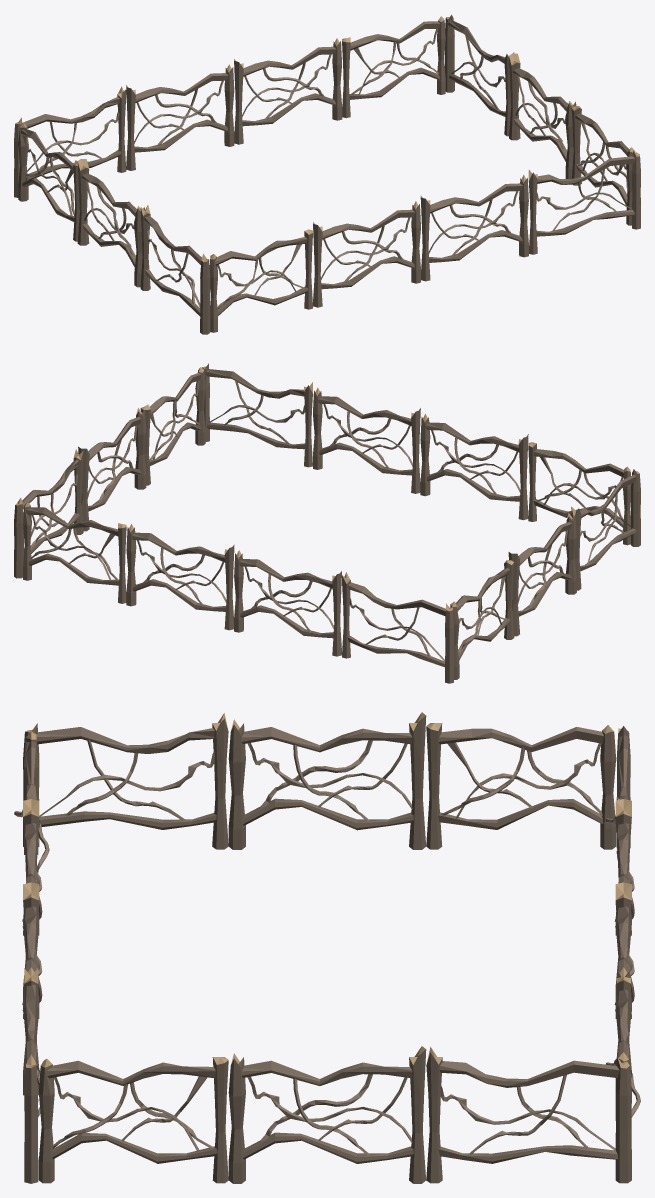
Rendered from fense_full.fbx.
3 views of the same model, one above another, from view 1: azimuth 30°, elevation 25°; view 2: azimuth 150°, elevation 25°; view 3: azimuth 270°, elevation 25° (orthographic). The views are drawn at different scales.
Parts seen in each view (by area): view 1: FENSE_CORNER_5, FENSE_CORNER_7, FENSE_CORNER_4, FENSE_CORNER_6, FENSE_LINE_4, FENSE_LINE_1, FENSE_LINE_5, FENSE_LINE_2, FENSE_LINE_3, FENSE_LINE_6; view 2: FENSE_CORNER_6, FENSE_CORNER_7, FENSE_CORNER_4, FENSE_CORNER_5, FENSE_LINE_2, FENSE_LINE_5, FENSE_LINE_1, FENSE_LINE_4, FENSE_LINE_3, FENSE_LINE_6; view 3: FENSE_CORNER_4, FENSE_CORNER_7, FENSE_CORNER_6, FENSE_LINE_3, FENSE_LINE_6, FENSE_CORNER_5, FENSE_LINE_1, FENSE_LINE_5, FENSE_LINE_4, FENSE_LINE_2.
Part boxes in pixels (left/top/right/bottom): FENSE_CORNER_5: left=140, top=205, right=312, bottom=334; FENSE_CORNER_7: left=342, top=14, right=514, bottom=136; FENSE_CORNER_4: left=528, top=106, right=640, bottom=254; FENSE_CORNER_6: left=14, top=86, right=126, bottom=241; FENSE_LINE_4: left=126, top=64, right=234, bottom=170; FENSE_LINE_1: left=420, top=174, right=528, bottom=281; FENSE_LINE_5: left=234, top=38, right=342, bottom=144; FENSE_LINE_2: left=313, top=201, right=420, bottom=307; FENSE_LINE_3: left=77, top=159, right=144, bottom=287; FENSE_LINE_6: left=509, top=53, right=576, bottom=178; FENSE_CORNER_6: left=342, top=560, right=514, bottom=683; FENSE_CORNER_7: left=14, top=449, right=126, bottom=603; FENSE_CORNER_4: left=140, top=363, right=312, bottom=485; FENSE_CORNER_5: left=528, top=442, right=640, bottom=590; FENSE_LINE_2: left=420, top=414, right=528, bottom=520; FENSE_LINE_5: left=126, top=524, right=234, bottom=630; FENSE_LINE_1: left=313, top=387, right=420, bottom=493; FENSE_LINE_4: left=234, top=550, right=341, bottom=656; FENSE_LINE_3: left=508, top=513, right=576, bottom=636; FENSE_LINE_6: left=78, top=408, right=146, bottom=531; FENSE_CORNER_4: left=24, top=968, right=228, bottom=1183; FENSE_CORNER_7: left=426, top=976, right=640, bottom=1183; FENSE_CORNER_6: left=426, top=723, right=630, bottom=860; FENSE_LINE_3: left=228, top=712, right=426, bottom=849; FENSE_LINE_6: left=228, top=1046, right=426, bottom=1183; FENSE_CORNER_5: left=14, top=713, right=228, bottom=872; FENSE_LINE_1: left=22, top=882, right=42, bottom=1095; FENSE_LINE_5: left=614, top=882, right=634, bottom=1086; FENSE_LINE_4: left=614, top=799, right=634, bottom=1011; FENSE_LINE_2: left=22, top=799, right=42, bottom=1008.
Bounding box in the file's own units: 835 × 147 × 635.
